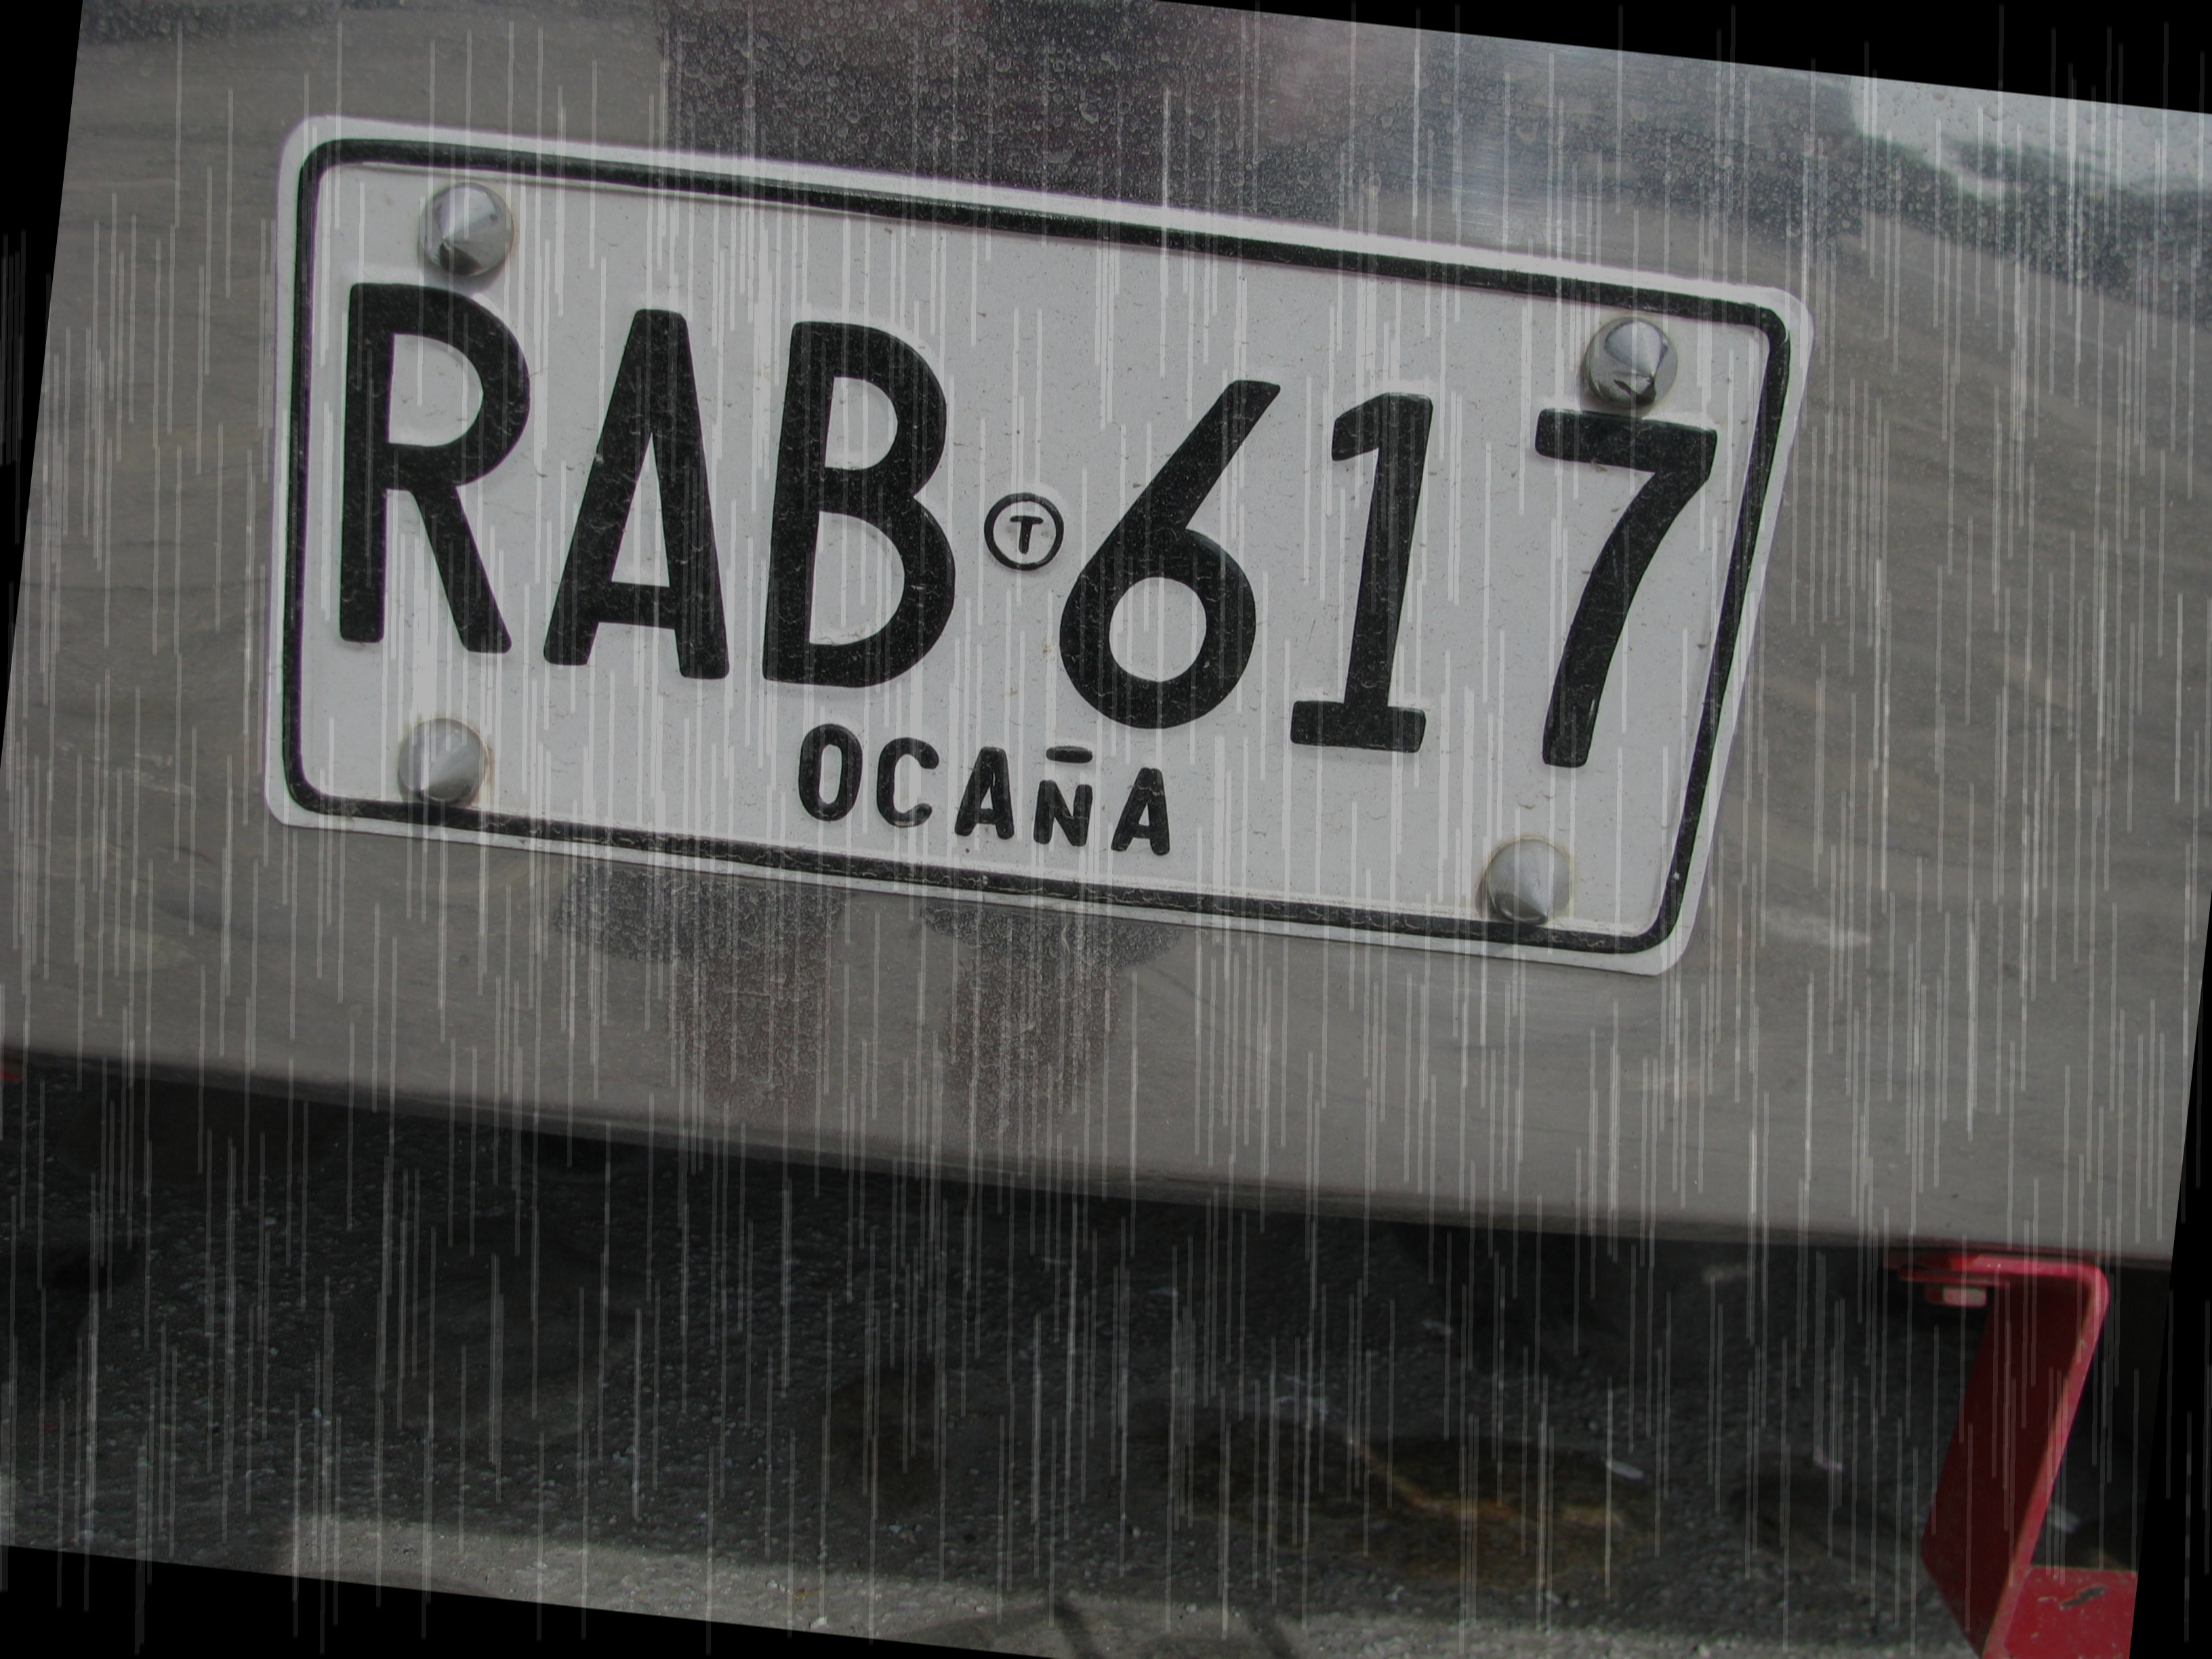placas: (201, 104, 1819, 990)
